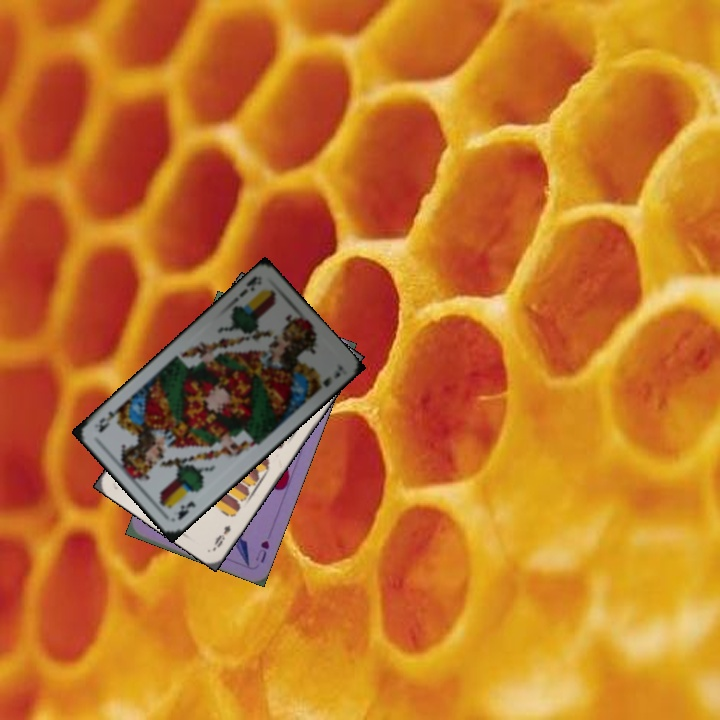E9: (210, 521, 233, 551)
EK: (235, 272, 264, 299), (174, 497, 198, 522)
HU: (251, 536, 272, 565)
